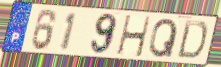1: (60, 11, 78, 52)
6: (30, 8, 57, 52)
9: (90, 12, 120, 56)
D: (176, 19, 210, 61)
H: (116, 14, 153, 59)
Q: (148, 17, 180, 59)
